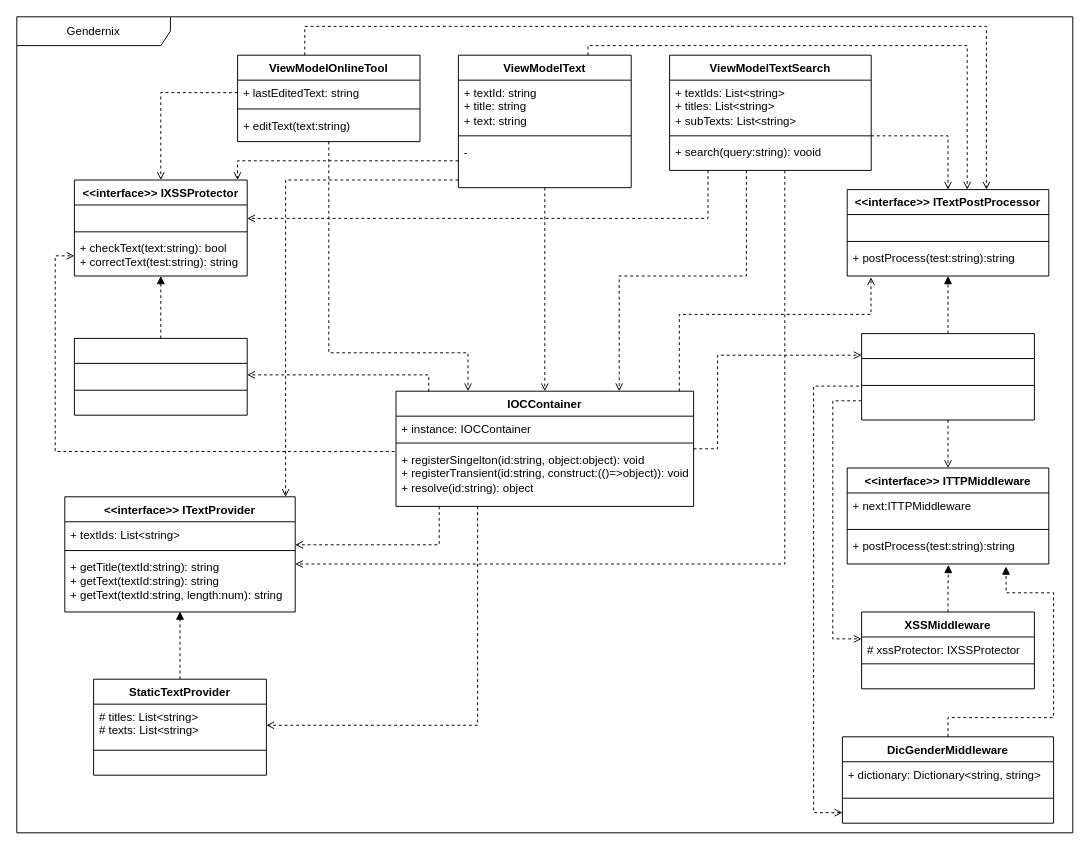
Some shapes in this 1090 by 850 pixel diagram are drawn without their labels. Here are the shapes that lost their labels. From the top down, the centre of each, then its label:
(160,376): XSSProtector
(947,376): TextPostProcessor
